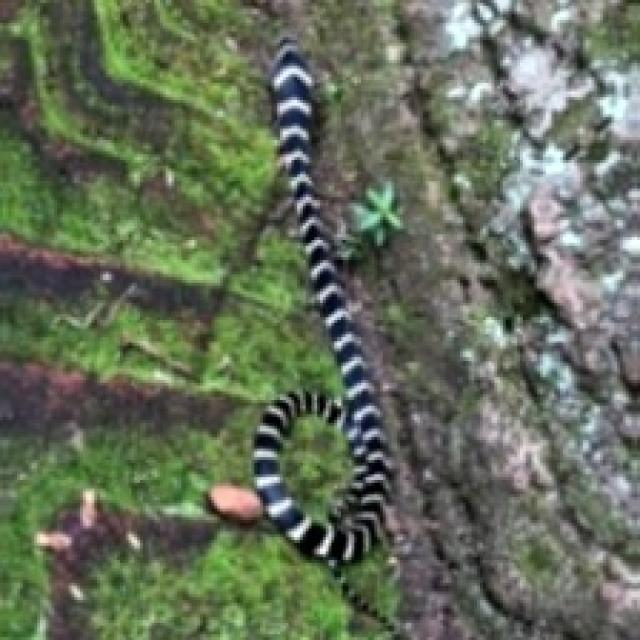king cobra: (254, 37, 389, 563), (277, 411, 354, 523)
